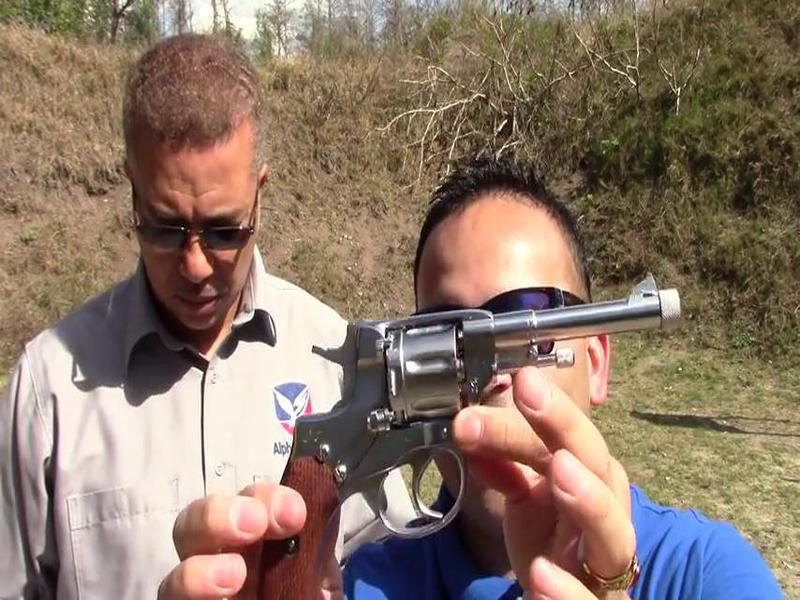Revolver: (207, 280, 733, 600)
